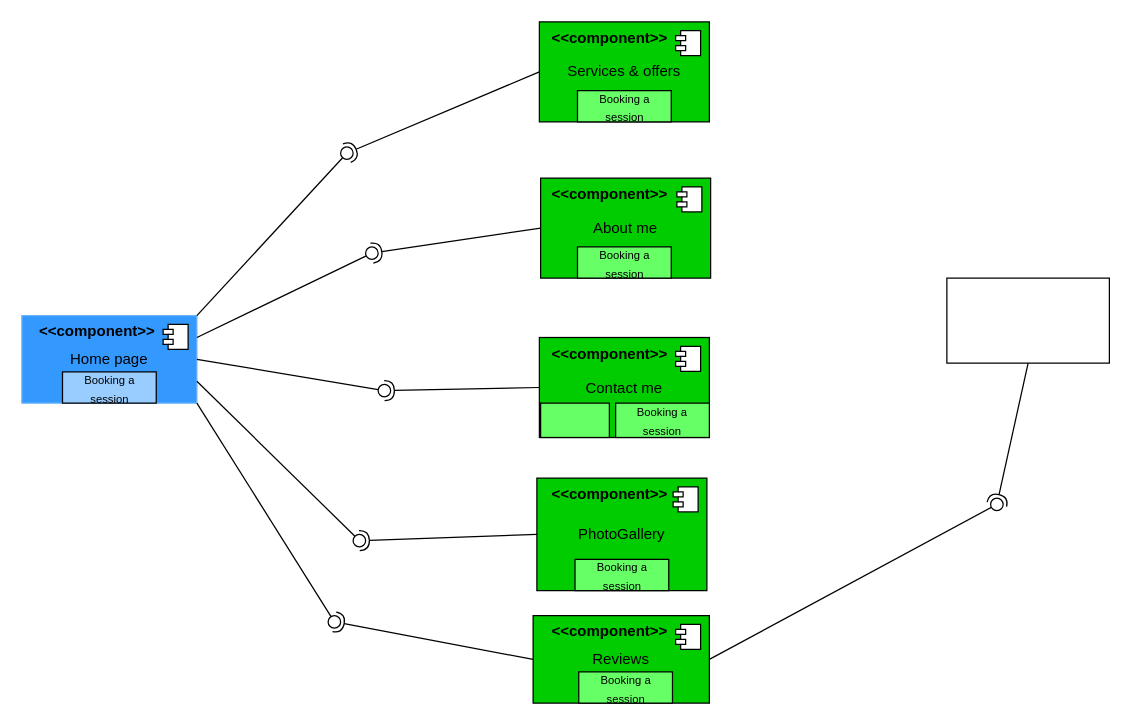
The diagram is 1131 pixels wide and 728 high, and some of its shapes have lost their labels. Each missing label, with the centre of its shape:
"Database" goes at point 1027,320.
"View on map" goes at point 574,420.
